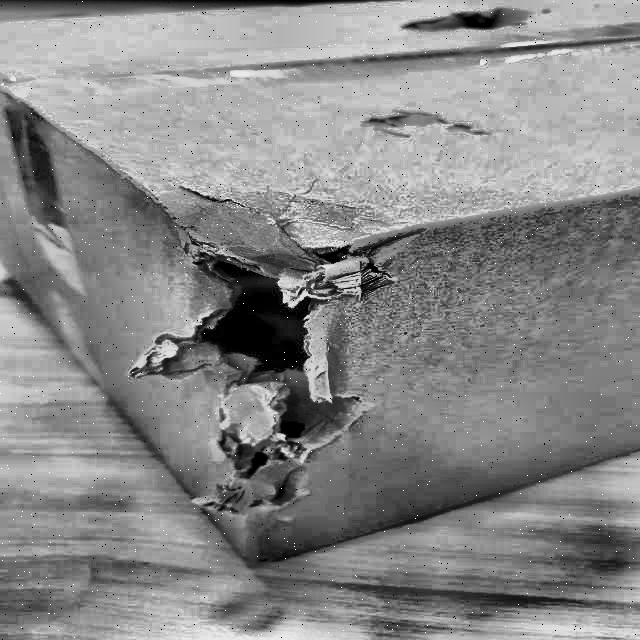box: (1, 0, 640, 585)
hole: (179, 253, 373, 470), (395, 3, 535, 39)
